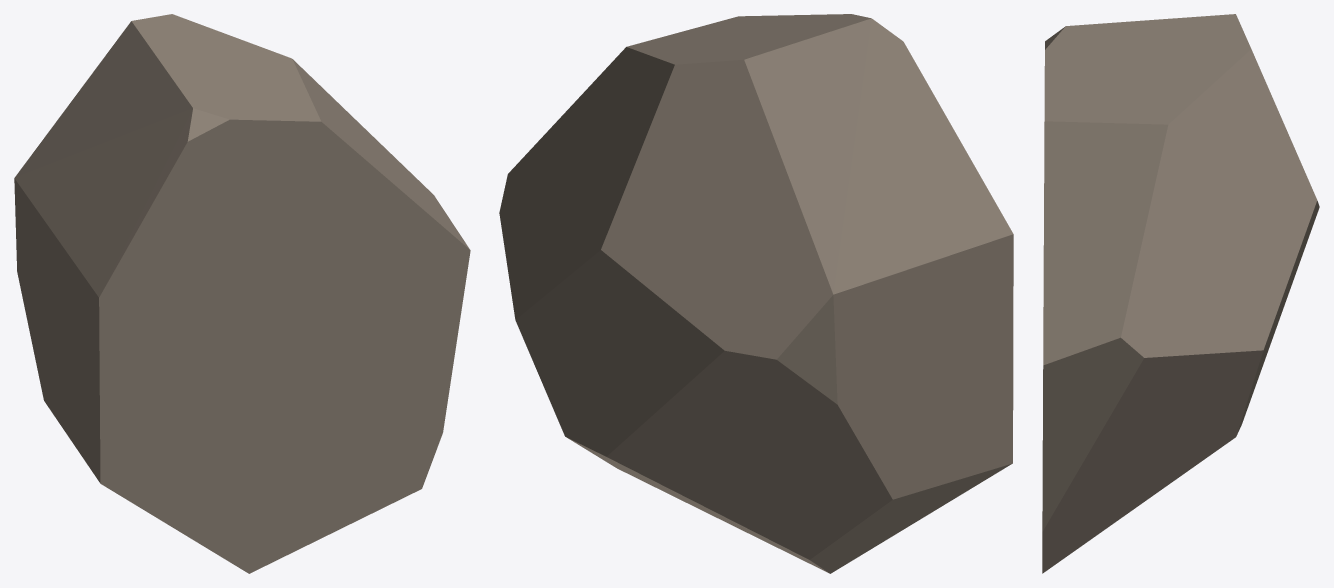
File: stone2.dae
3 renders of one model, left to right at view 1: azimuth 30°, elevation 25°; view 2: azimuth 150°, elevation 25°; view 3: azimuth 270°, elevation 25°, orthographic. The views are drawn at different scales.
Parts seen in each view (by area): view 1: Stone1.2; view 2: Stone1.2; view 3: Stone1.2.
Boxes of the visible parts, <box> form: Stone1.2: <box>14,14,470,573</box>; Stone1.2: <box>499,14,1013,573</box>; Stone1.2: <box>1042,14,1319,573</box>.
Size of the model in its own units: 2.15 by 1.35 by 2.7.
1 material, 1 textured.
